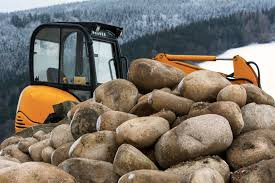excavator: (18, 22, 257, 131)
